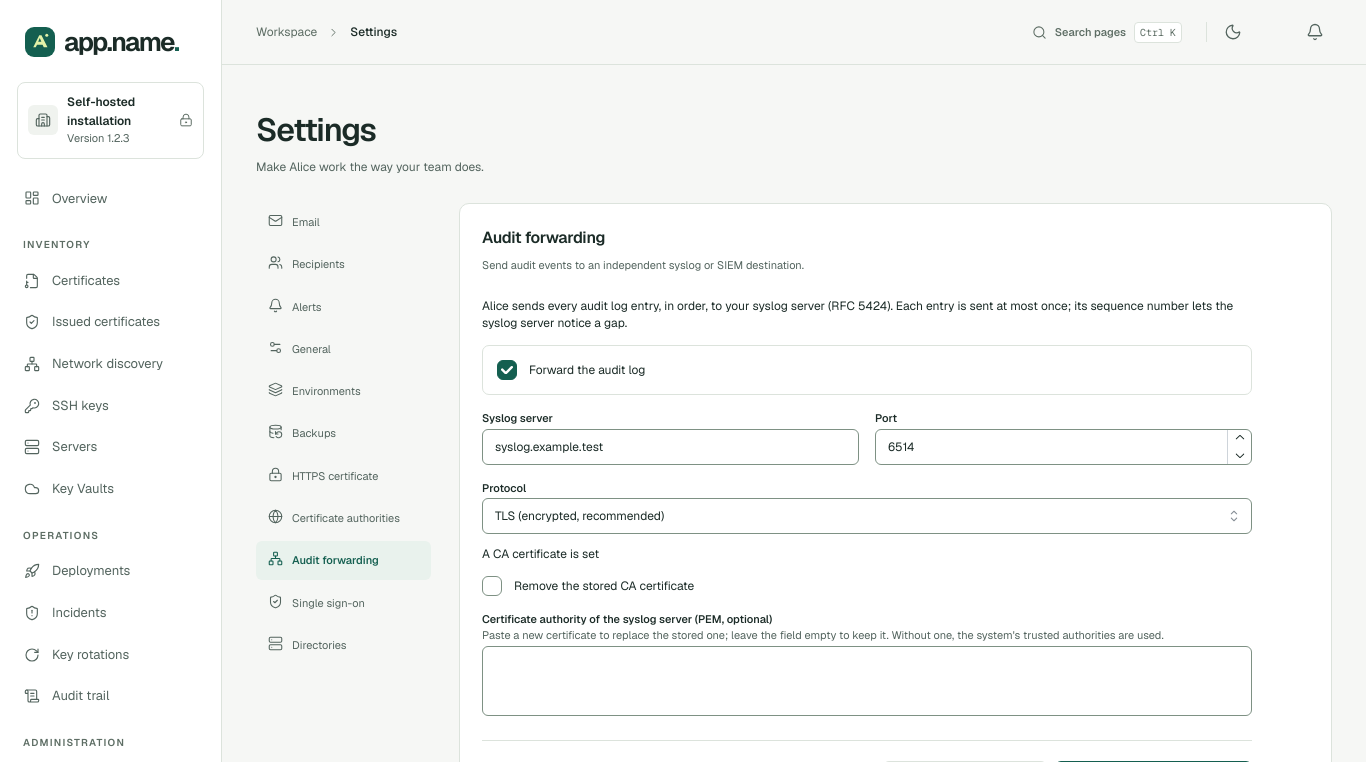
Test: ForwardingTab › removes the stored CA certificate when asked, and offers that only while one is set
The image size is (1366, 762).
Click the checkbox labelled "Remove the stored CA certificate": click(492, 586) [482,576,502,596]
(page scrolled)
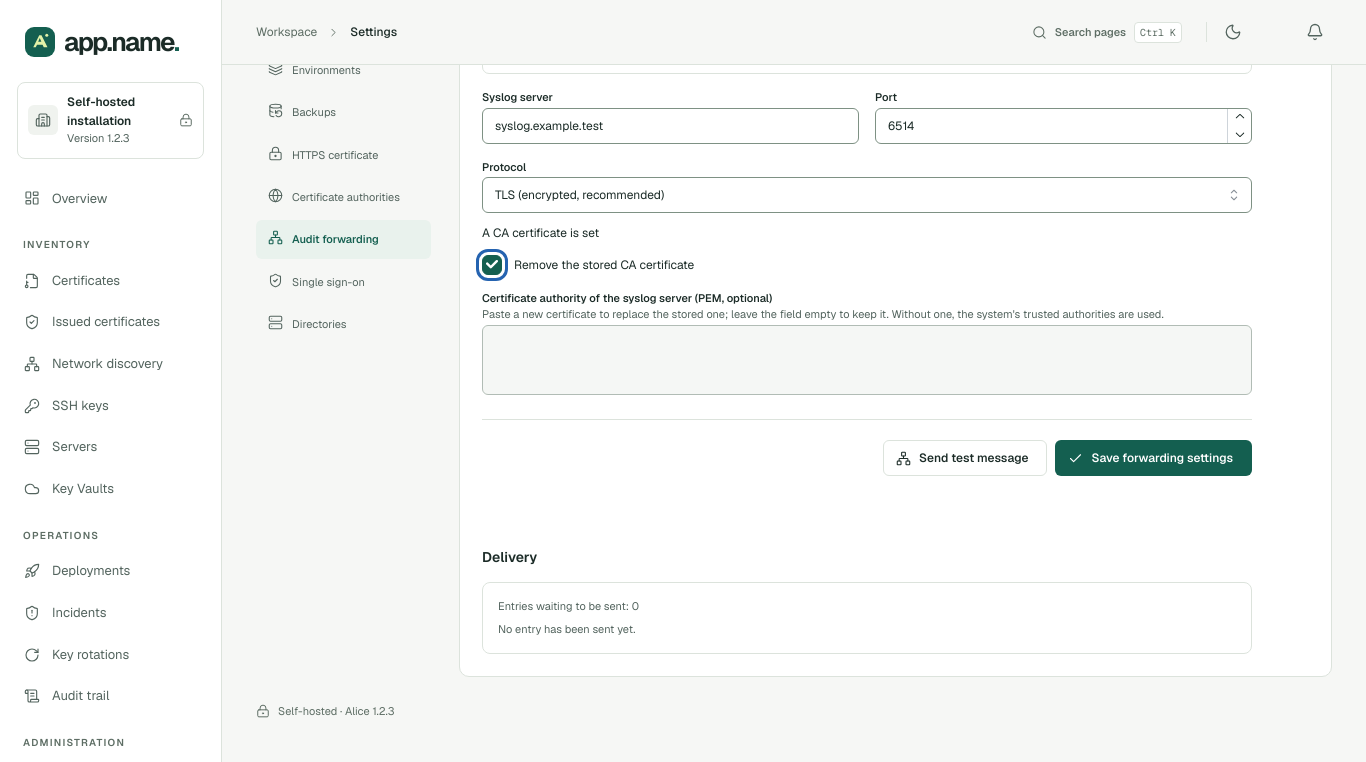
Click the button "Save forwarding settings": click(1154, 458) [1055,440,1252,476]
(page scrolled)
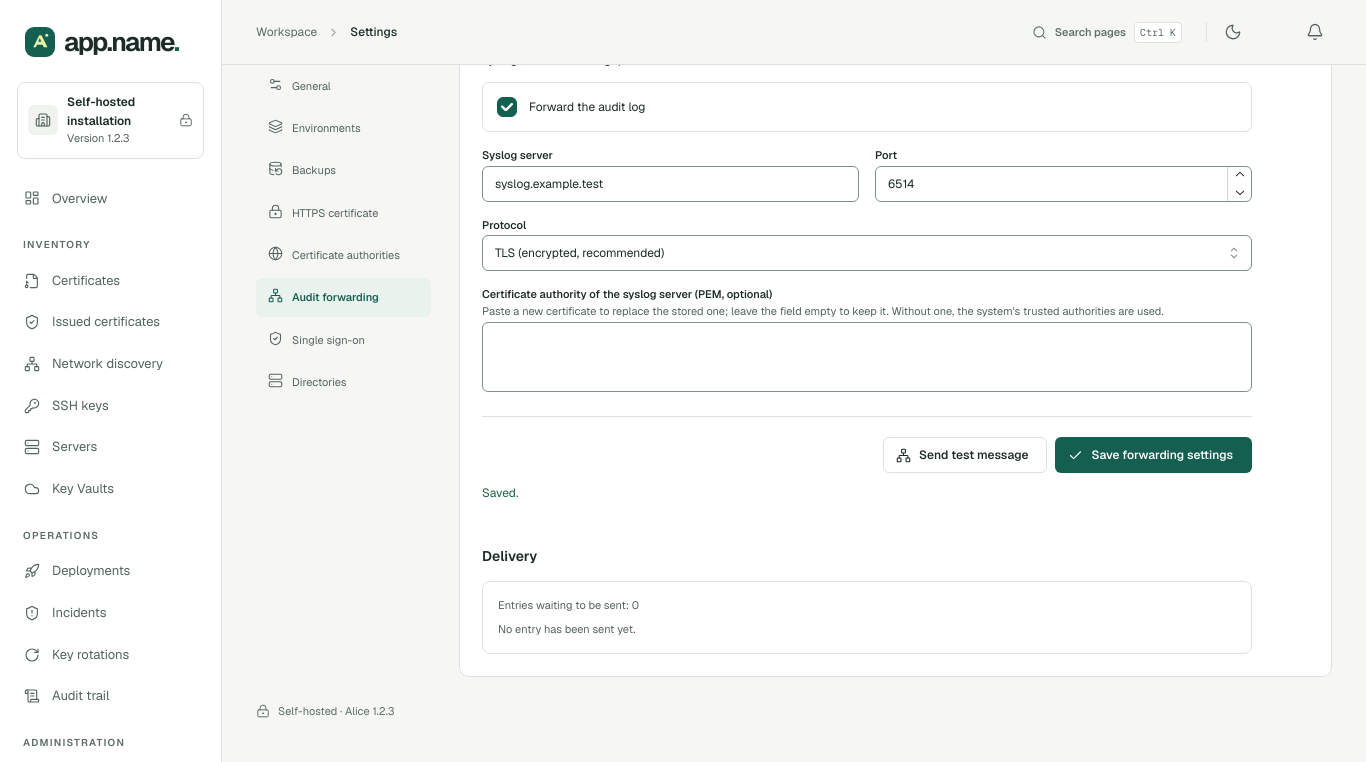
expect the text "Saved." is shown: met, box [482,485,518,501]
expect the text "A CA certificate is set" is gone: met
expect the label labelled "Remove the stored CA certificate" is gone: met
